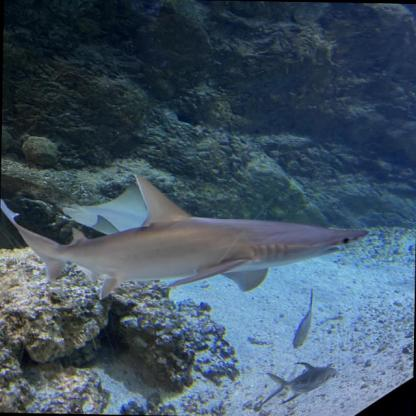fish: (260, 360, 337, 405), (292, 288, 314, 350)
shark: (0, 168, 373, 307)
